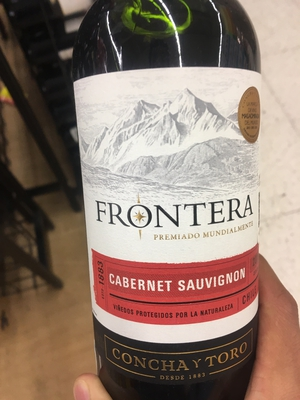frontera cabernet sauvignon: (69, 12, 278, 400)
